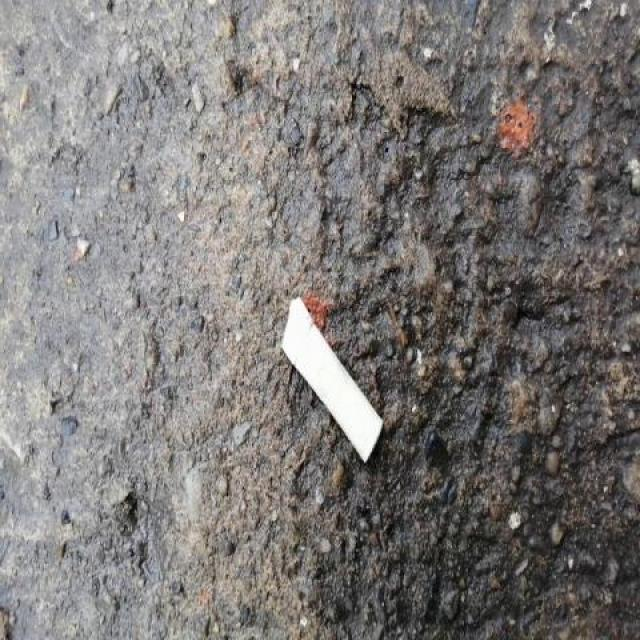non-organic waste: (274, 291, 389, 473)
